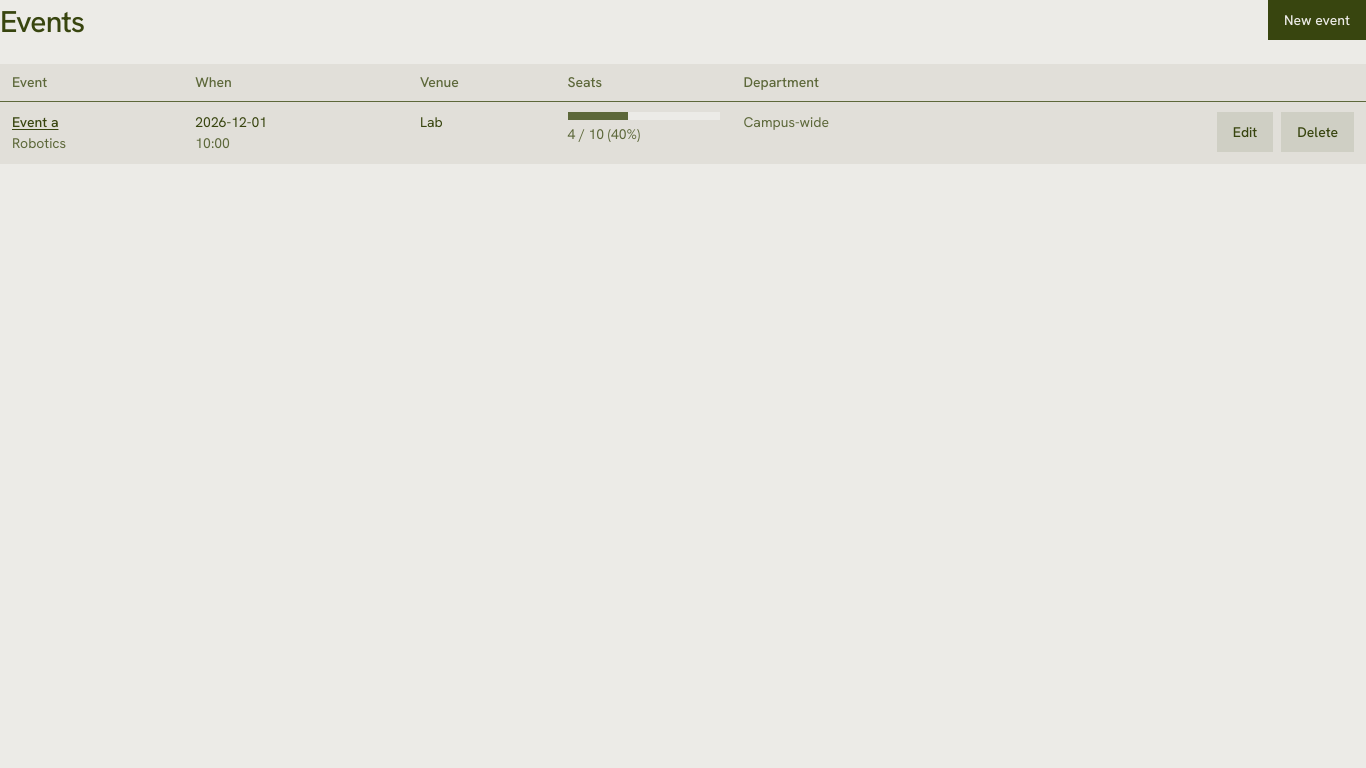
Test: the admin events page › warns how many registrations would be lost and only forces the delete after a second confirmation
Click the button with aria-label "Delete Event a" at [1318, 132], box [1281,112,1354,152]
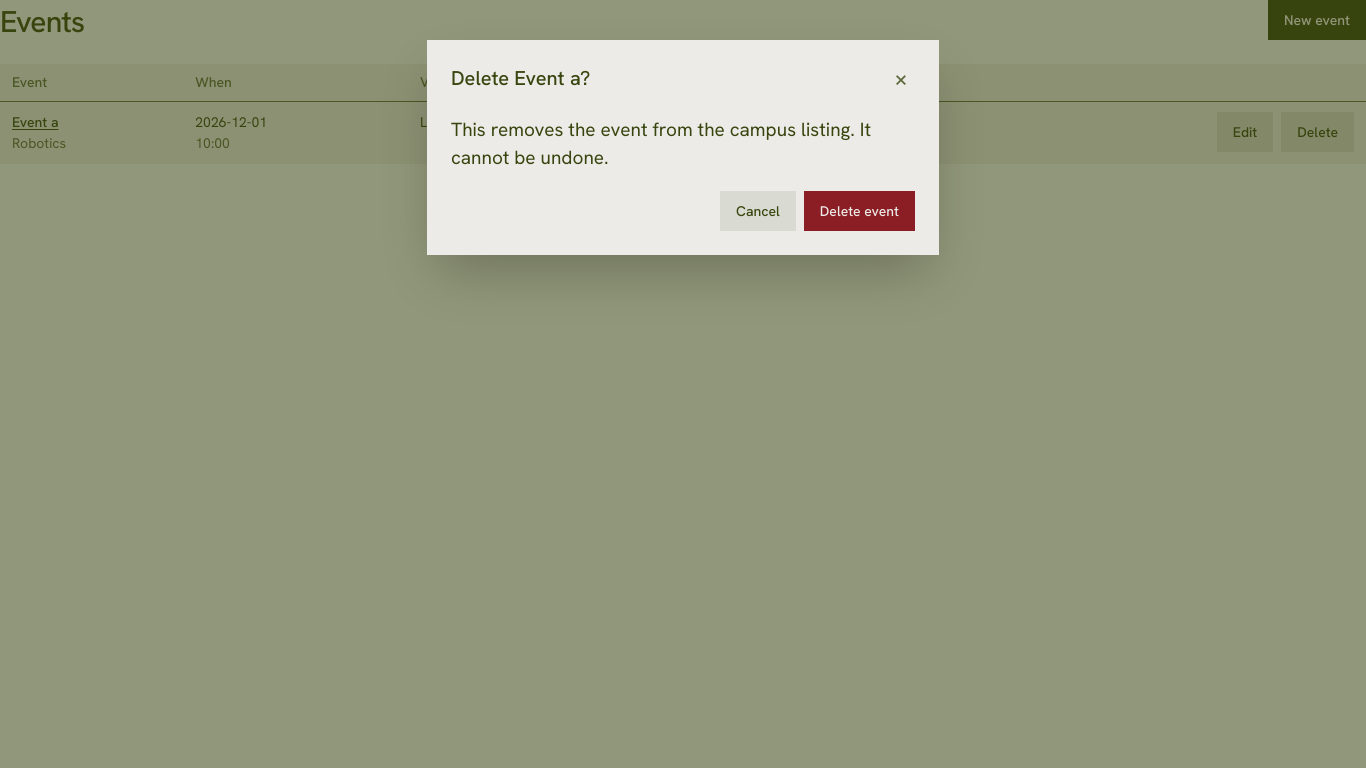
Click the button "Delete event" at [859, 211], box [804,191,915,231]
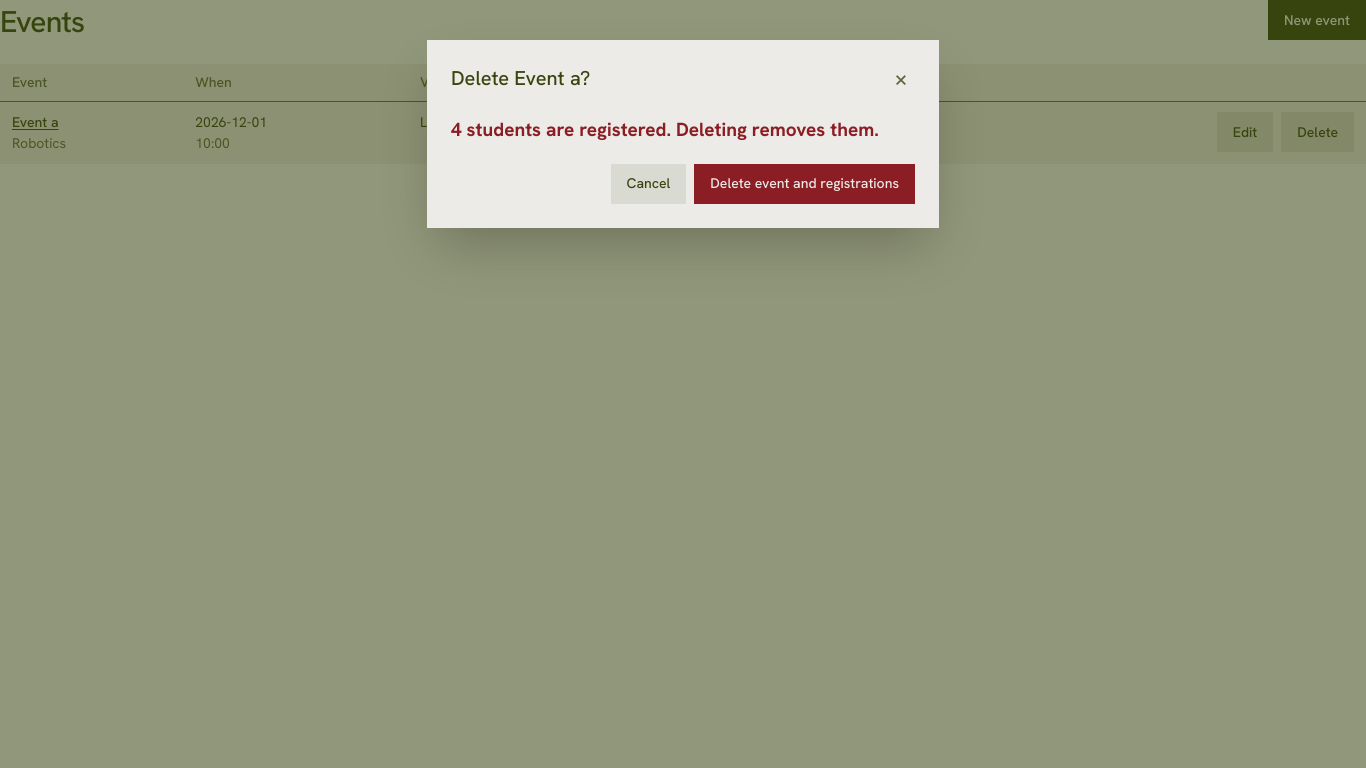
expect the text "4 students are registered. Deleting removes them." is shown: met, box [451,117,879,142]
Click the button "Delete event and registrations" at [805, 184], box [694,164,915,204]
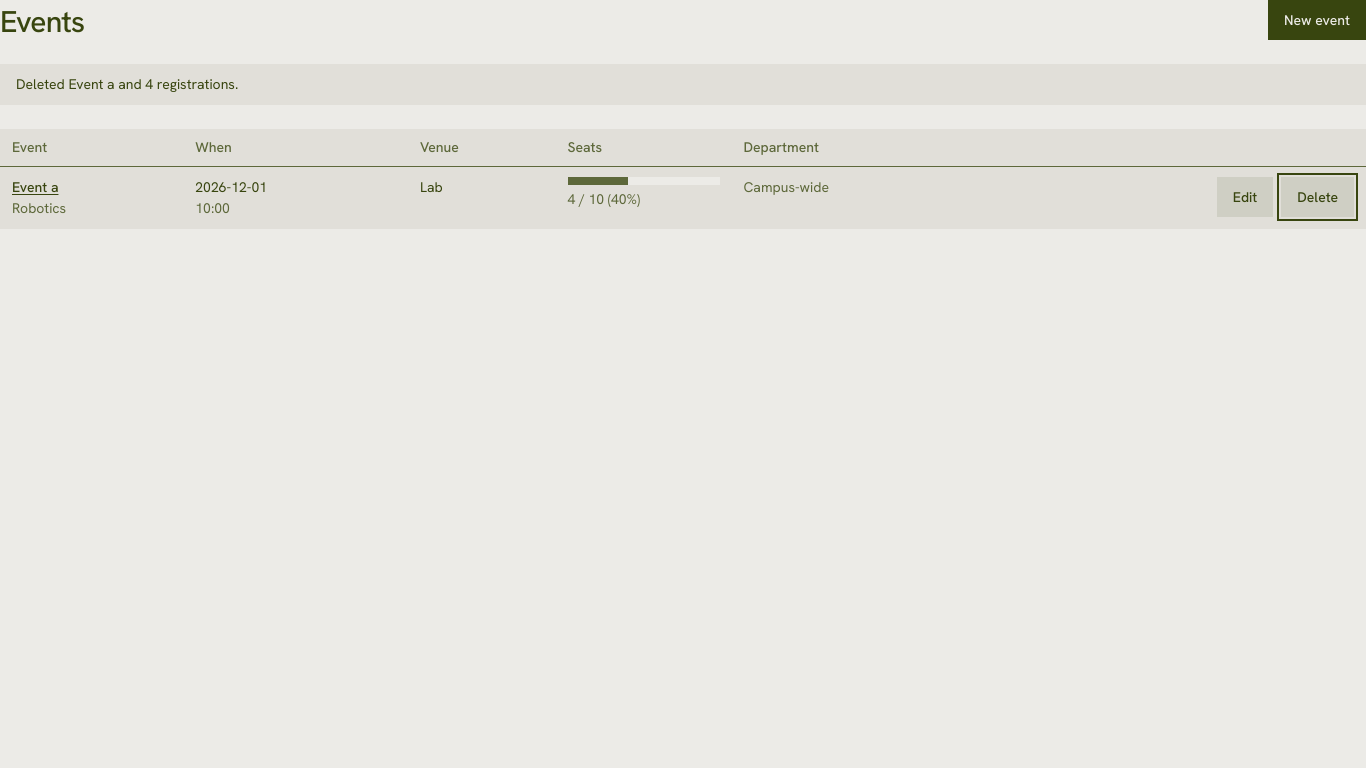
expect the text "Deleted Event a and 4 registrations." is shown: met, box [0,64,1365,105]
